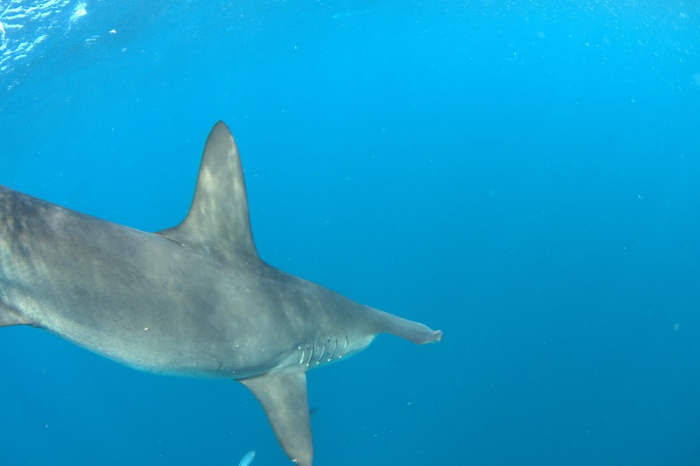Hammer: (1, 107, 470, 459)
